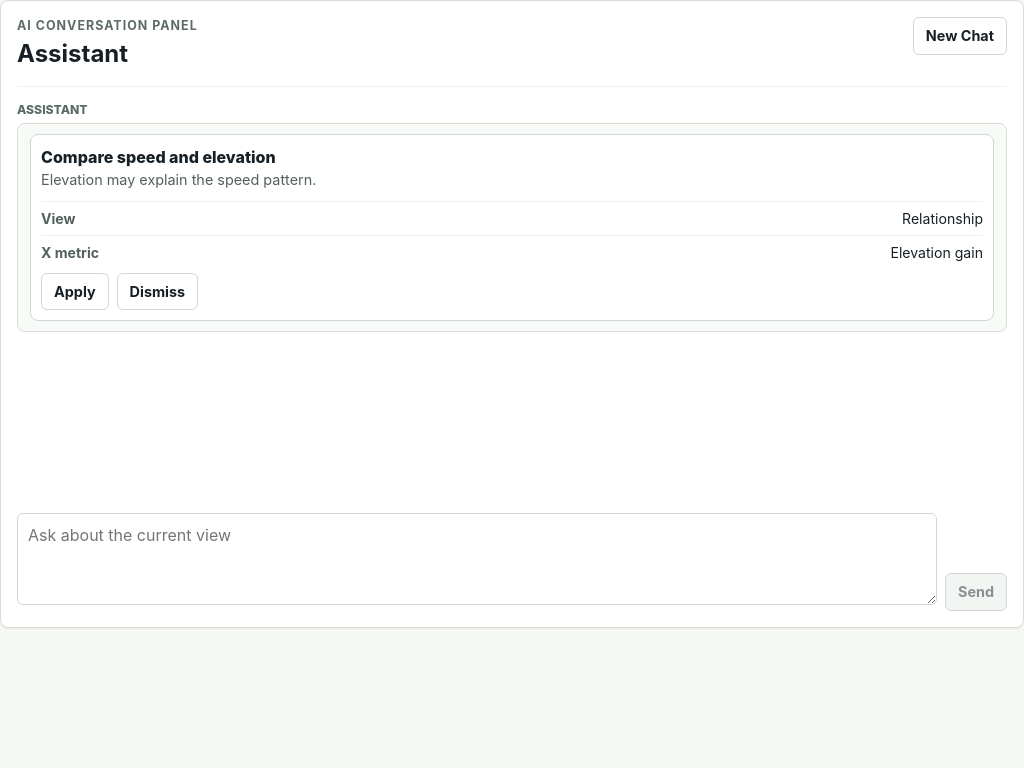
Test: ConversationPanelShell › renders suggestion unavailable when apply-time validation fails
Click the button "Apply" at (75, 292), box 41,273 -> 109,310
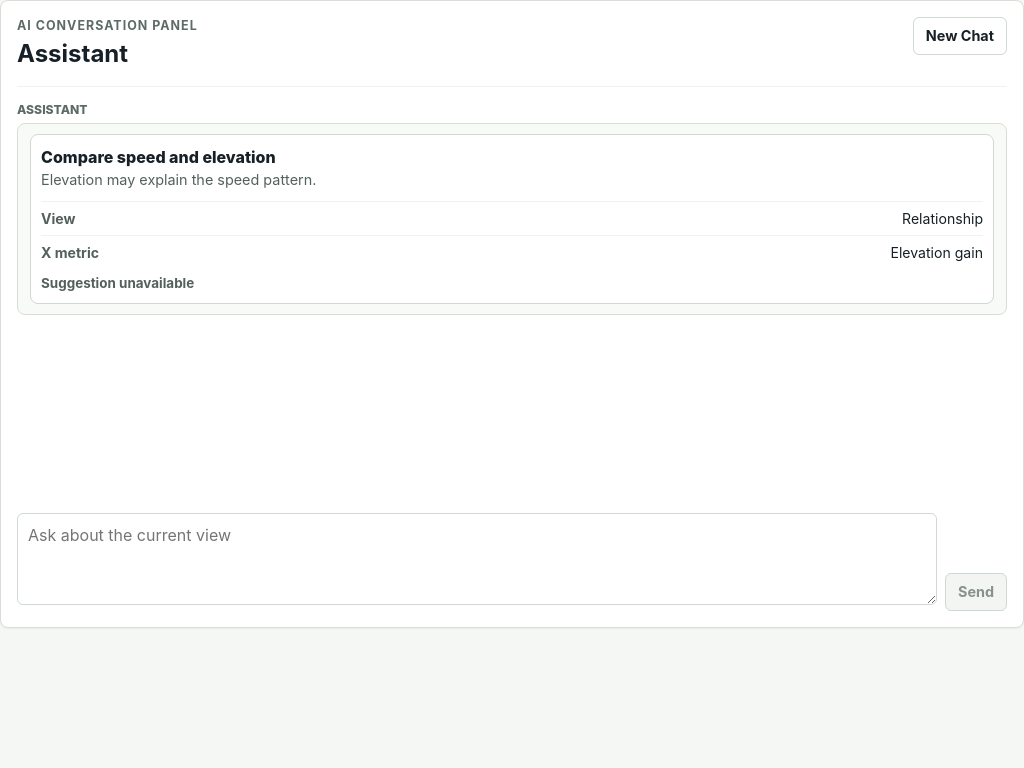
Result: the text "Suggestion unavailable" is shown at 41,275 -> 194,291
Result: the button "Apply" is gone
Result: the button "Dismiss" is gone
